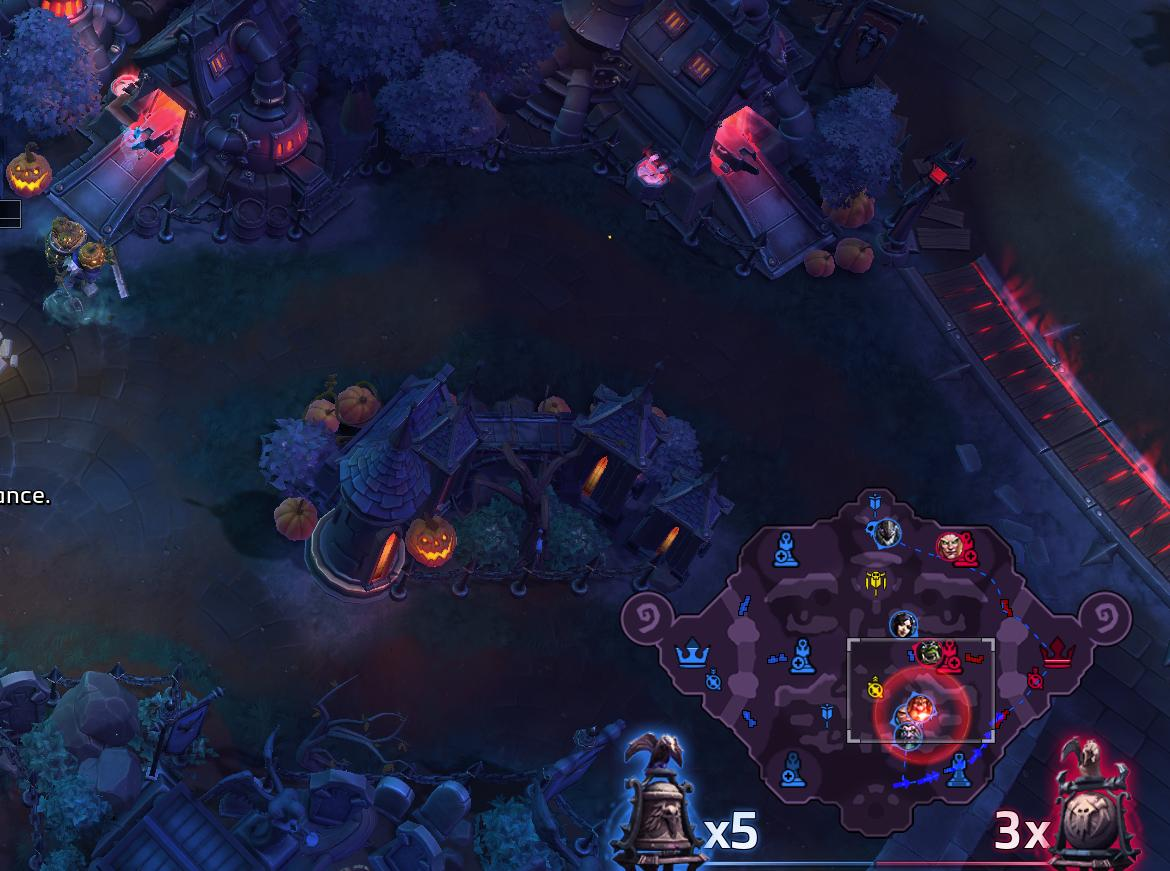blue nexus: (670, 632, 716, 674)
blue player: (900, 690, 945, 726), (868, 516, 907, 554), (889, 721, 927, 757), (886, 607, 920, 644)
blue tower: (784, 627, 824, 680), (774, 747, 813, 793), (940, 749, 980, 791), (772, 525, 803, 572)
red nexus: (1038, 629, 1077, 679)
red player: (932, 531, 968, 569), (913, 634, 947, 672)
